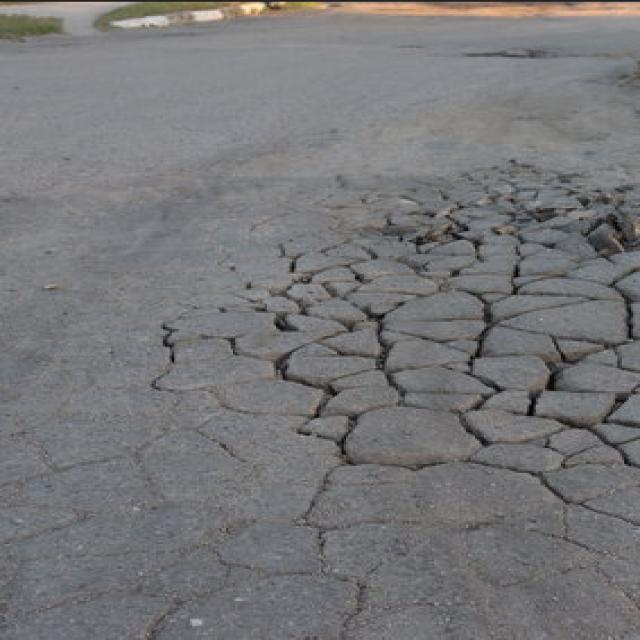Drain Hole: (163, 169, 640, 502)
